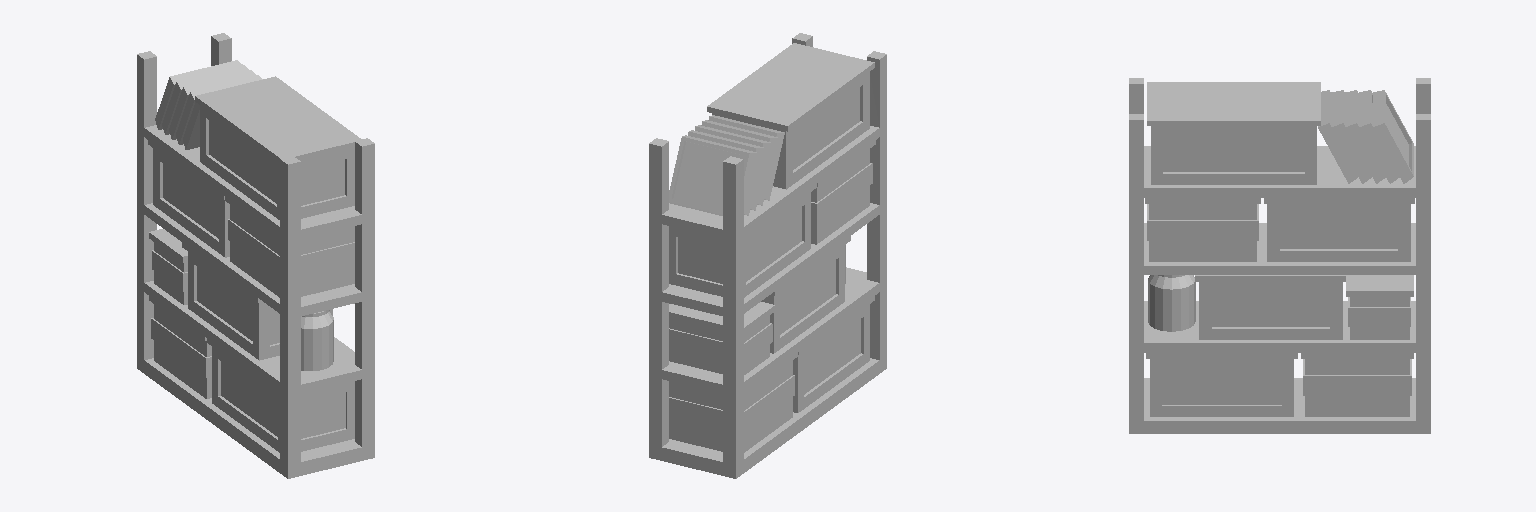
The model's file is shelf_v8.obj.
3 renders of one model, left to right at view 1: azimuth 30°, elevation 25°; view 2: azimuth 150°, elevation 25°; view 3: azimuth 270°, elevation 25°, orthographic.
Visible parts, largest first — view 1: shelf_v8_tester_pCube265; view 2: shelf_v8_tester_pCube265; view 3: shelf_v8_tester_pCube265.
Part boxes in pixels (x1,y1,x2,y2): shelf_v8_tester_pCube265: (137,33,374,478); shelf_v8_tester_pCube265: (649,33,886,478); shelf_v8_tester_pCube265: (1129,78,1430,433).
Bounding box in the file's own units: 4 × 13.76 × 12.